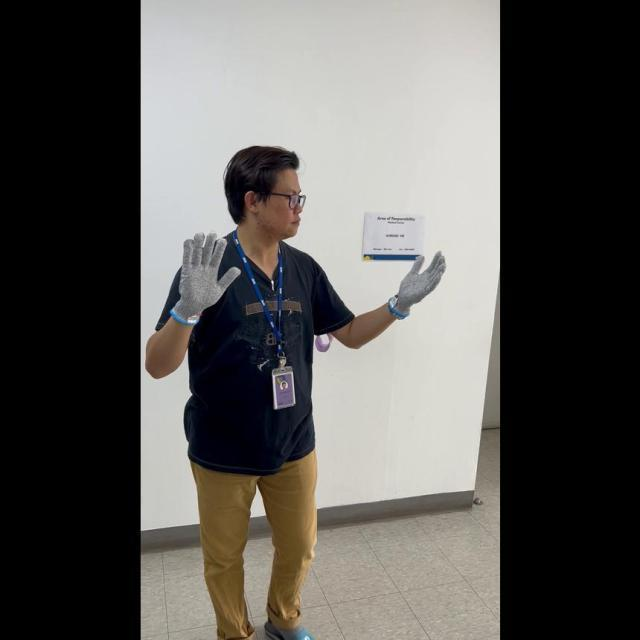gloved_hand: (165, 228, 240, 324), (385, 244, 445, 318)
